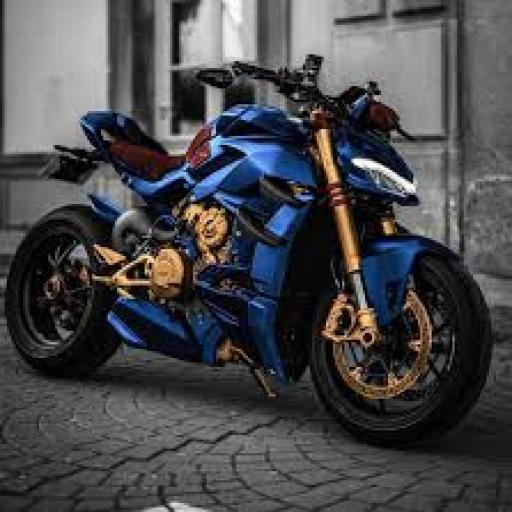bike-detection: (3, 16, 490, 450)
